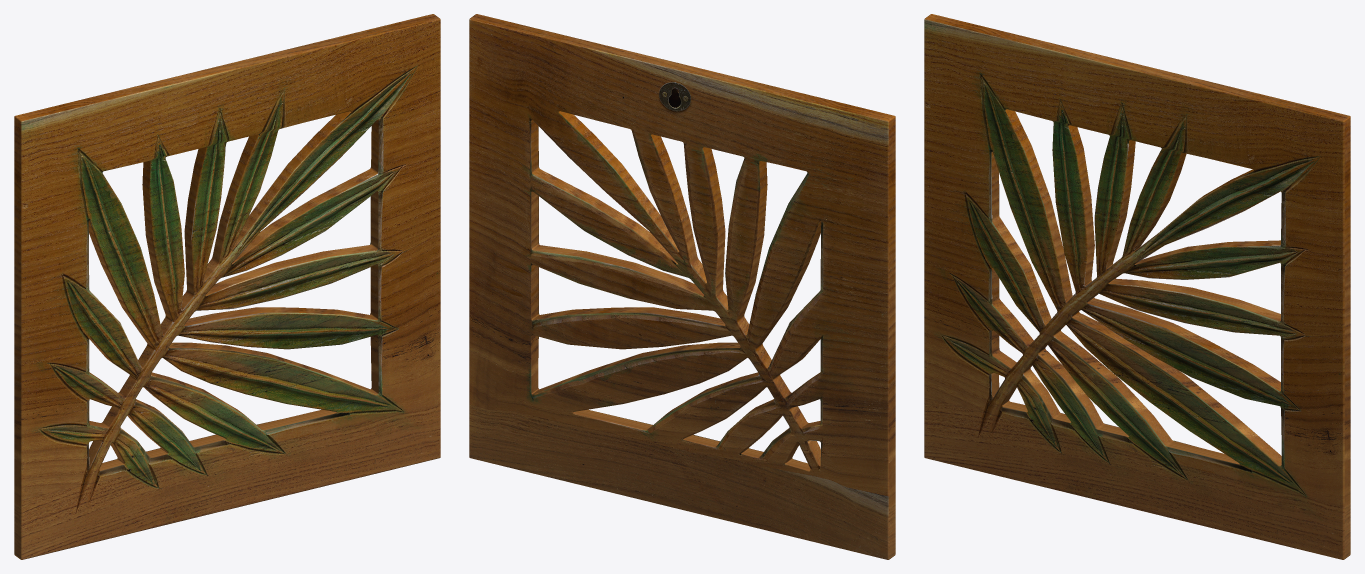
File: Wall Decorations (EMP(LGK) 1M).fbx
The picture shows the model from 3 angles, left to right: view 1: azimuth 30°, elevation 25°; view 2: azimuth 150°, elevation 25°; view 3: azimuth 330°, elevation 25°; orthographic projection.
Parts seen in each view (by area): view 1: 024 Wall Decorations (EMP(LGK) 1M); view 2: 024 Wall Decorations (EMP(LGK) 1M); view 3: 024 Wall Decorations (EMP(LGK) 1M).
Part boxes in pixels (box(x1,y1,x2,y2)): 024 Wall Decorations (EMP(LGK) 1M): box(14, 14, 440, 559); 024 Wall Decorations (EMP(LGK) 1M): box(469, 14, 895, 559); 024 Wall Decorations (EMP(LGK) 1M): box(924, 14, 1350, 559).
Bounding box in the file's own units: 32.95 × 32.95 × 1.1.
2 materials, 2 textured.
